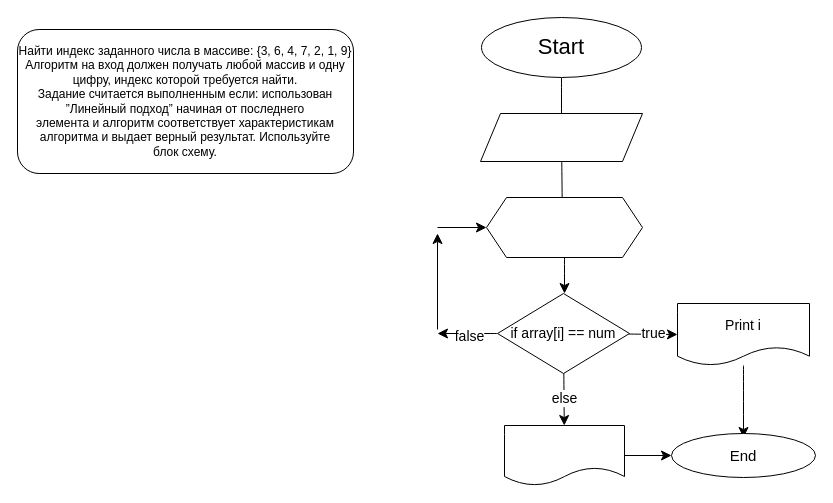
This 833x503 diagram has some shape labels left out. The shapes that lost their labels are listed below. From the top down, each one's box as (x1, y1, x2, y2) in pixels, then its label:
(480, 112, 642, 162): Input: array, num
(486, 196, 642, 258): for i = 0 to n
(504, 424, 624, 486): Print "-1"
